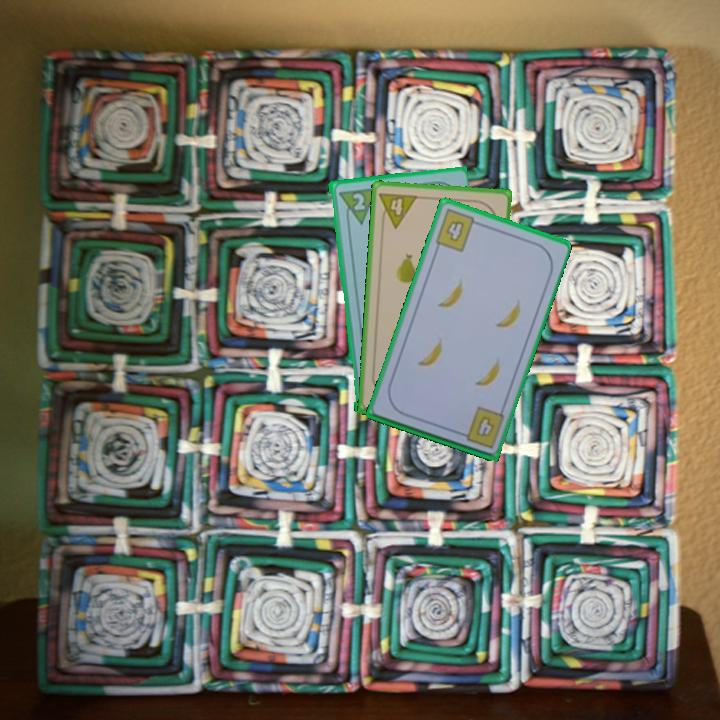2p: (348, 189, 367, 213)
4b: (431, 205, 484, 255), (455, 403, 507, 451)
4p: (376, 188, 420, 231)
